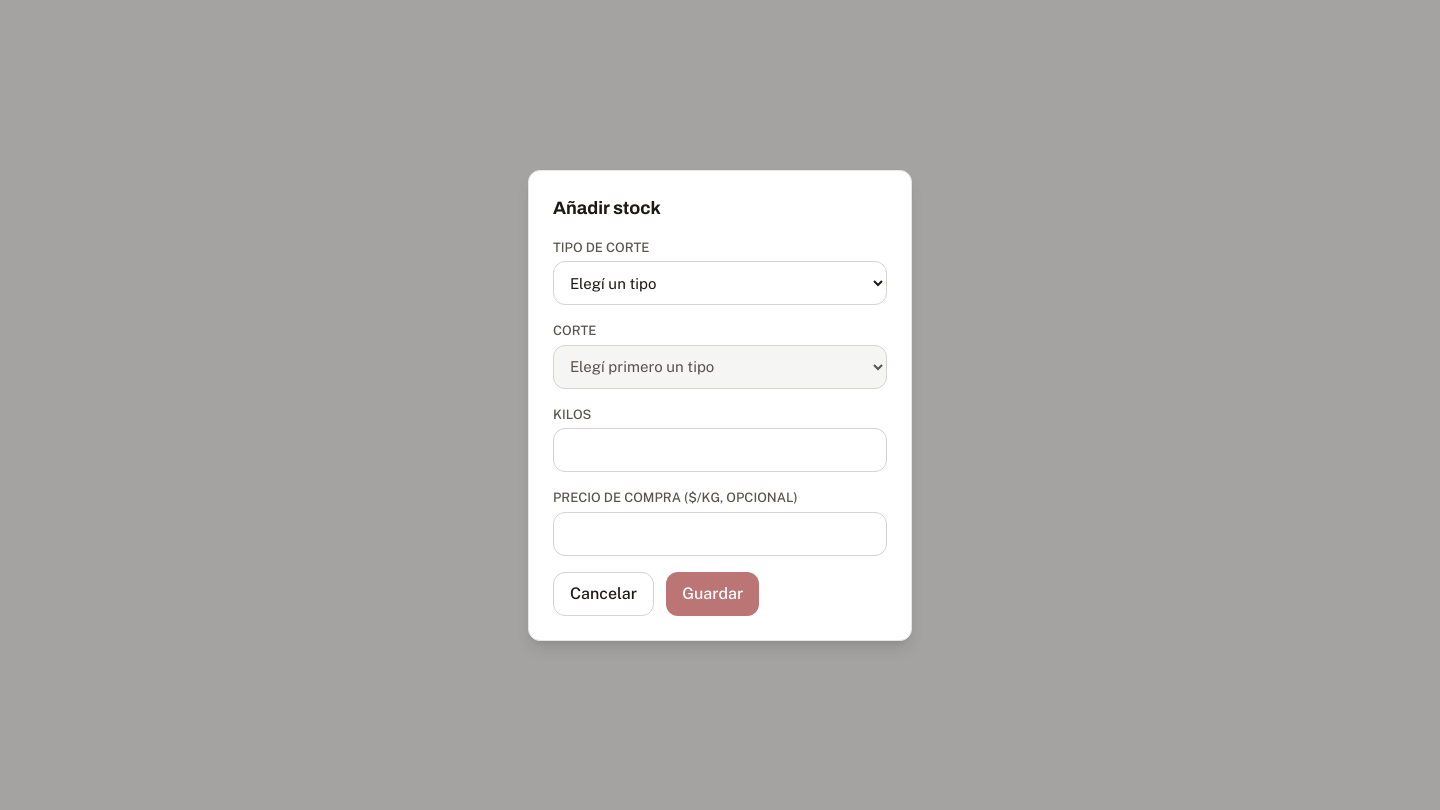
Test: ModalAnadirStock › con kg <= 0, no deja guardar y muestra un error
The image size is (1440, 810).
Select "Achuras y Embutidos" in the dropdown labelled "Tipo de corte" at (720, 283), box [553,261,887,305]
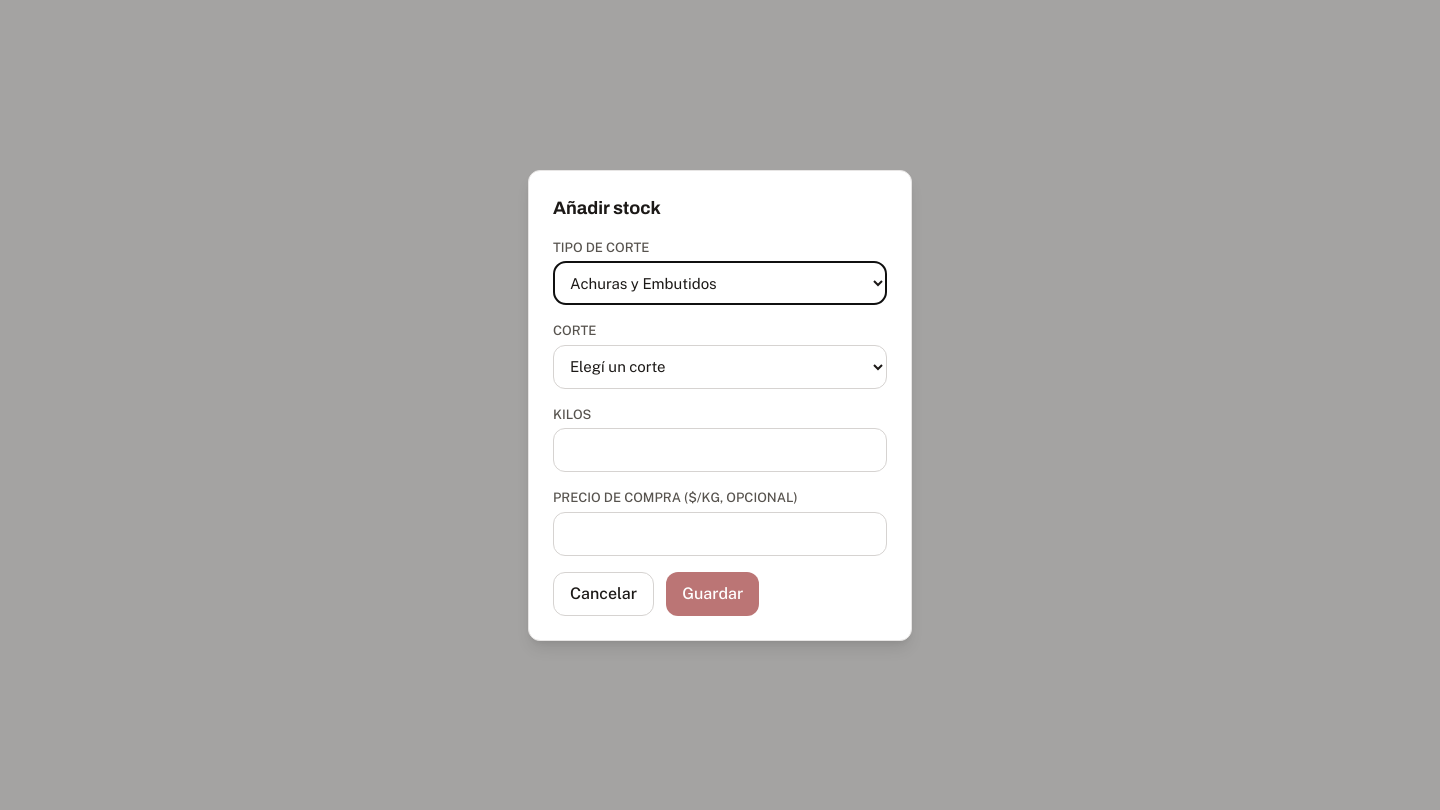
Select "Chorizo" in the dropdown labelled "Corte" at (720, 366), box [553,344,887,388]
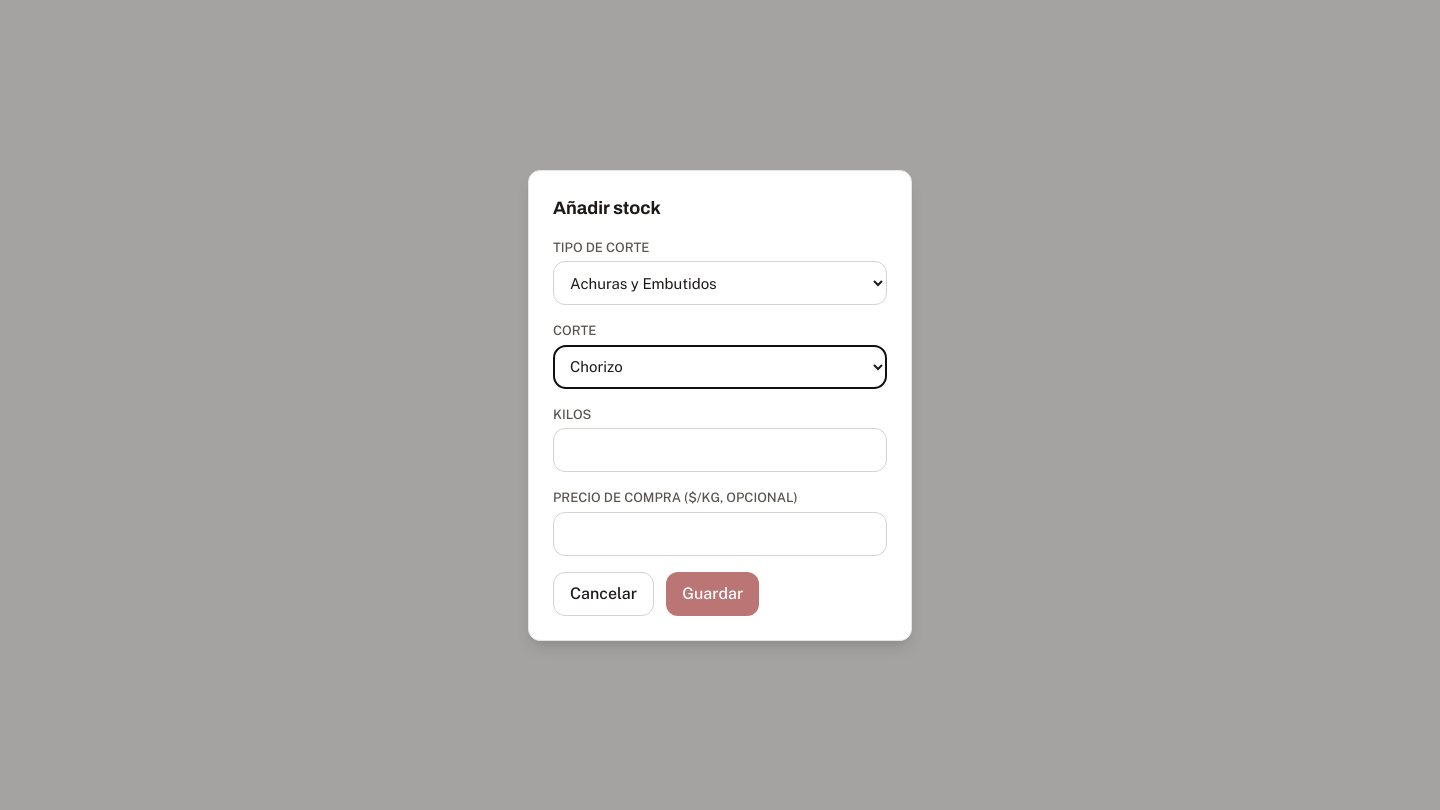
Type "0" into the field labelled "Kilos" at (720, 450), box [553,428,887,472]
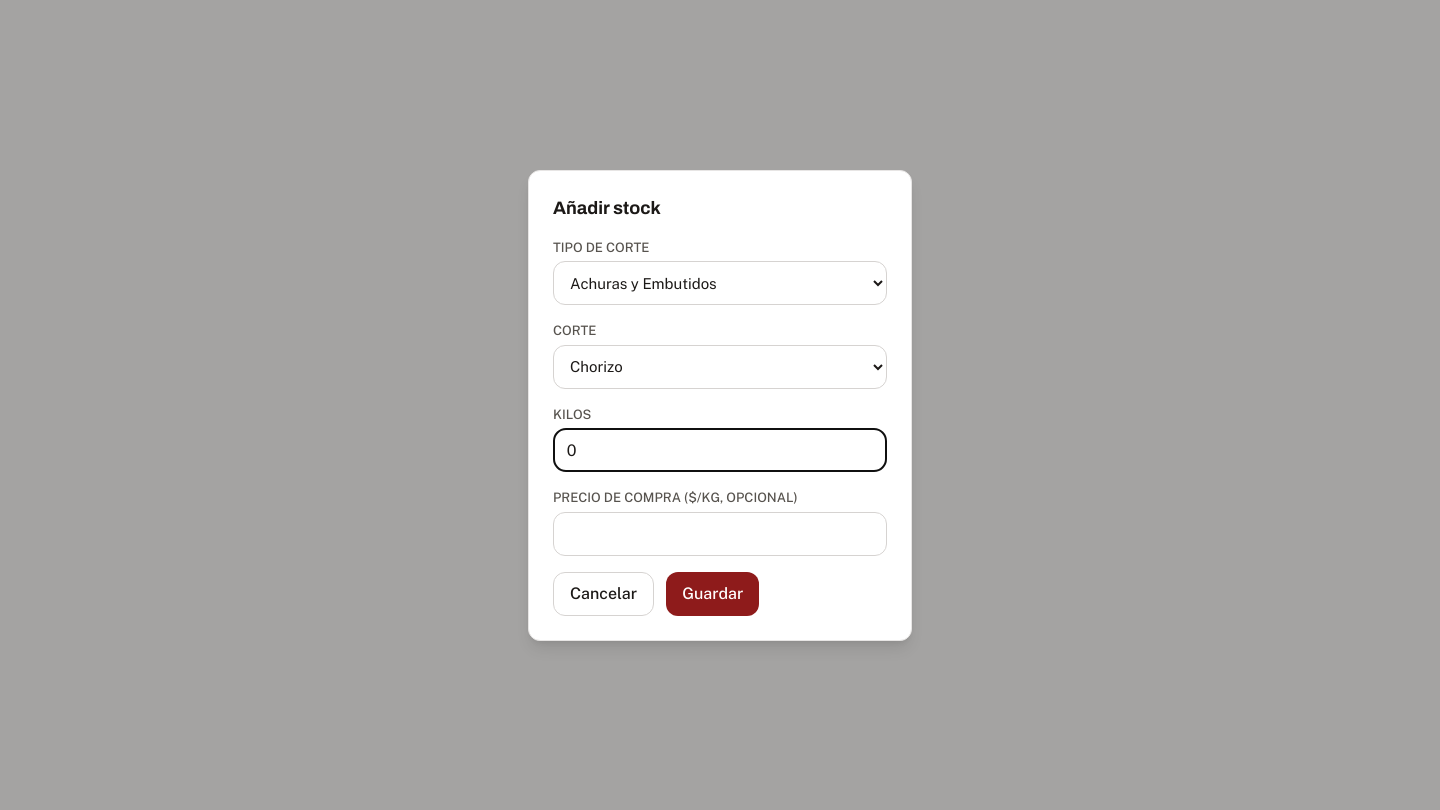
Click the button "Guardar" at (713, 594), box [666,572,759,616]
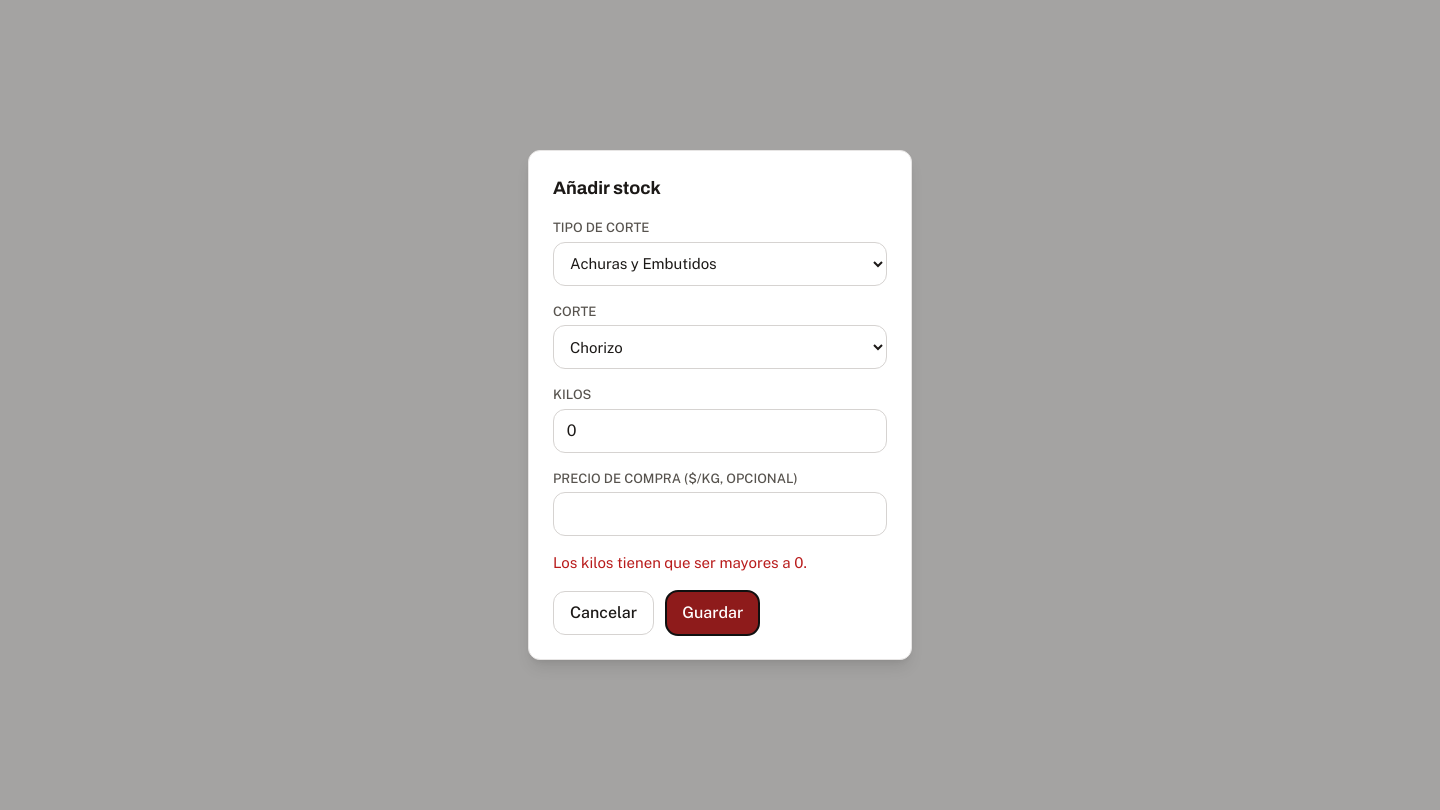
Now the text "Los kilos tienen que ser mayores a 0." is shown, box [553,554,807,571]
